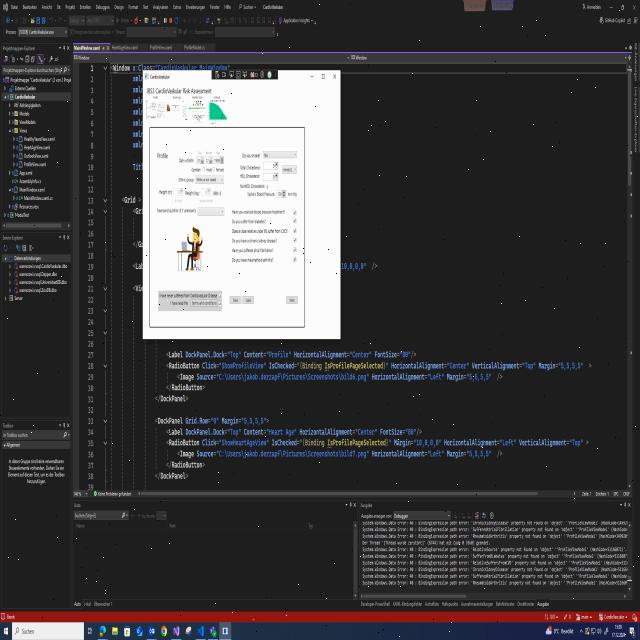button: (190, 298, 218, 308), (285, 294, 299, 305), (242, 294, 254, 304), (229, 295, 242, 304), (308, 72, 316, 83), (331, 72, 338, 82), (321, 72, 326, 83)
checkbox: (292, 217, 298, 225), (292, 246, 298, 254), (292, 228, 298, 235), (292, 236, 297, 244), (293, 256, 297, 264), (293, 210, 297, 217), (218, 294, 222, 300), (218, 301, 222, 307)
dropdownMenu: (263, 148, 298, 160), (194, 174, 224, 185), (197, 206, 225, 216), (281, 163, 298, 174)
input: (12, 620, 84, 640)
label: (144, 85, 212, 96), (231, 228, 289, 235), (154, 207, 197, 216), (158, 292, 218, 298), (231, 256, 275, 264), (231, 208, 285, 214), (232, 247, 274, 254), (232, 238, 278, 244), (231, 218, 268, 225), (247, 191, 276, 198), (149, 73, 172, 81), (242, 152, 261, 160), (240, 184, 268, 189), (239, 173, 260, 179), (170, 300, 188, 307), (156, 151, 169, 160), (158, 188, 172, 196), (185, 190, 200, 197), (240, 165, 261, 170), (178, 158, 195, 164), (178, 177, 194, 183), (287, 190, 298, 198), (191, 94, 204, 100), (174, 198, 185, 204), (216, 166, 225, 173), (198, 199, 213, 203), (171, 95, 182, 100), (190, 167, 201, 172), (213, 190, 222, 196), (205, 150, 213, 156), (213, 95, 222, 99), (206, 166, 212, 172), (151, 96, 159, 100), (198, 150, 202, 156), (215, 151, 221, 155)
radio: (202, 165, 206, 173), (212, 166, 216, 173)
upDown: (262, 160, 280, 172), (262, 172, 279, 182), (201, 186, 212, 198), (173, 187, 184, 197), (276, 189, 286, 199), (213, 155, 224, 164), (204, 156, 213, 164), (196, 156, 204, 165)
